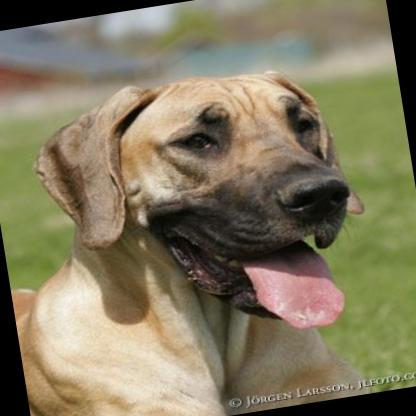Great_Dane: (0, 50, 392, 416)
